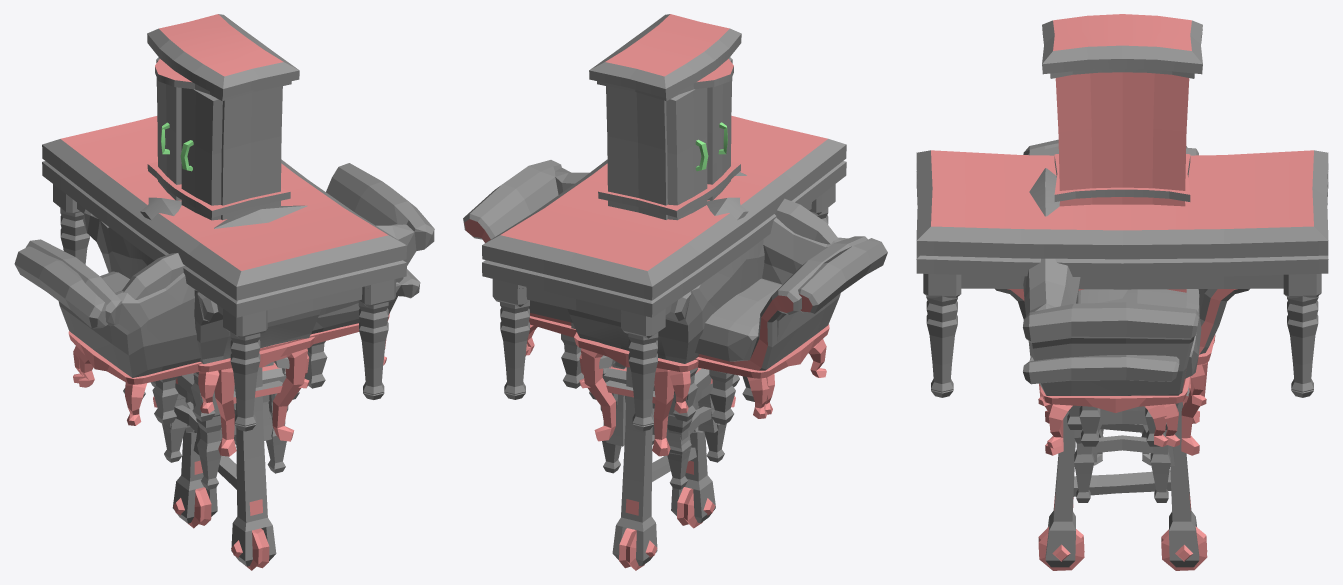
The model's file is Funiture.fbx.
The picture shows the model from 3 angles, left to right: view 1: azimuth 30°, elevation 25°; view 2: azimuth 150°, elevation 25°; view 3: azimuth 270°, elevation 25°; orthographic projection. The views are drawn at different scales.
Parts seen in each view (by area): view 1: SM_ReadingDesk, SM_CupBoard, SM_Sofa, SM_ReadingDesk2, SM_LibraryLadder, SM_ReadingChair, SM_Kanapee, SM_LibraryChair, SM_SmallTable, SM_LibraryStoolLong, SM_ChairTheater; view 2: SM_ReadingDesk, SM_CupBoard, SM_Sofa, SM_ReadingDesk2, SM_ReadingChair, SM_LibraryLadder, SM_Kanapee, SM_LibraryChair, SM_SmallTable, SM_LibraryStoolLong, SM_ChairTheater, SM_LibraryStool; view 3: SM_ReadingDesk, SM_CupBoard, SM_Sofa, SM_ReadingDesk2, SM_LibraryLadder, SM_Kanapee, SM_LibraryChair, SM_ReadingChair, SM_SmallTable, SM_LibraryStoolLong.
Part boxes in pixels (x1=…): SM_ReadingDesk: x1=42, y1=116, x2=406, y2=426; SM_CupBoard: x1=147, y1=14, x2=299, y2=368; SM_Sofa: x1=25, y1=163, x2=434, y2=425; SM_ReadingDesk2: x1=42, y1=161, x2=406, y2=431; SM_LibraryLadder: x1=172, y1=367, x2=276, y2=570; SM_ReadingChair: x1=83, y1=197, x2=321, y2=413; SM_Kanapee: x1=14, y1=246, x2=420, y2=387; SM_LibraryChair: x1=162, y1=362, x2=288, y2=489; SM_SmallTable: x1=153, y1=348, x2=307, y2=456; SM_LibraryStoolLong: x1=123, y1=341, x2=327, y2=424; SM_ChairTheater: x1=169, y1=361, x2=274, y2=450; SM_ReadingDesk: x1=482, y1=115, x2=846, y2=426; SM_CupBoard: x1=589, y1=14, x2=741, y2=368; SM_Sofa: x1=463, y1=160, x2=867, y2=418; SM_ReadingDesk2: x1=482, y1=161, x2=846, y2=431; SM_ReadingChair: x1=567, y1=197, x2=764, y2=413; SM_LibraryLadder: x1=612, y1=367, x2=715, y2=570; SM_Kanapee: x1=526, y1=198, x2=887, y2=414; SM_LibraryChair: x1=600, y1=366, x2=726, y2=489; SM_SmallTable: x1=581, y1=348, x2=735, y2=456; SM_LibraryStoolLong: x1=561, y1=334, x2=754, y2=424; SM_ChairTheater: x1=606, y1=361, x2=717, y2=455; SM_LibraryStool: x1=571, y1=322, x2=739, y2=421; SM_ReadingDesk: x1=916, y1=150, x2=1328, y2=392; SM_CupBoard: x1=1042, y1=14, x2=1202, y2=376; SM_Sofa: x1=1023, y1=146, x2=1201, y2=448; SM_ReadingDesk2: x1=916, y1=171, x2=1328, y2=397; SM_LibraryLadder: x1=1038, y1=402, x2=1207, y2=570; SM_Kanapee: x1=1023, y1=139, x2=1187, y2=446; SM_LibraryChair: x1=1067, y1=403, x2=1178, y2=502; SM_ReadingChair: x1=995, y1=288, x2=1249, y2=406; SM_SmallTable: x1=1039, y1=362, x2=1207, y2=455; SM_LibraryStoolLong: x1=1079, y1=406, x2=1164, y2=446.
Size of the model in its own units: 360 by 492 by 344.
